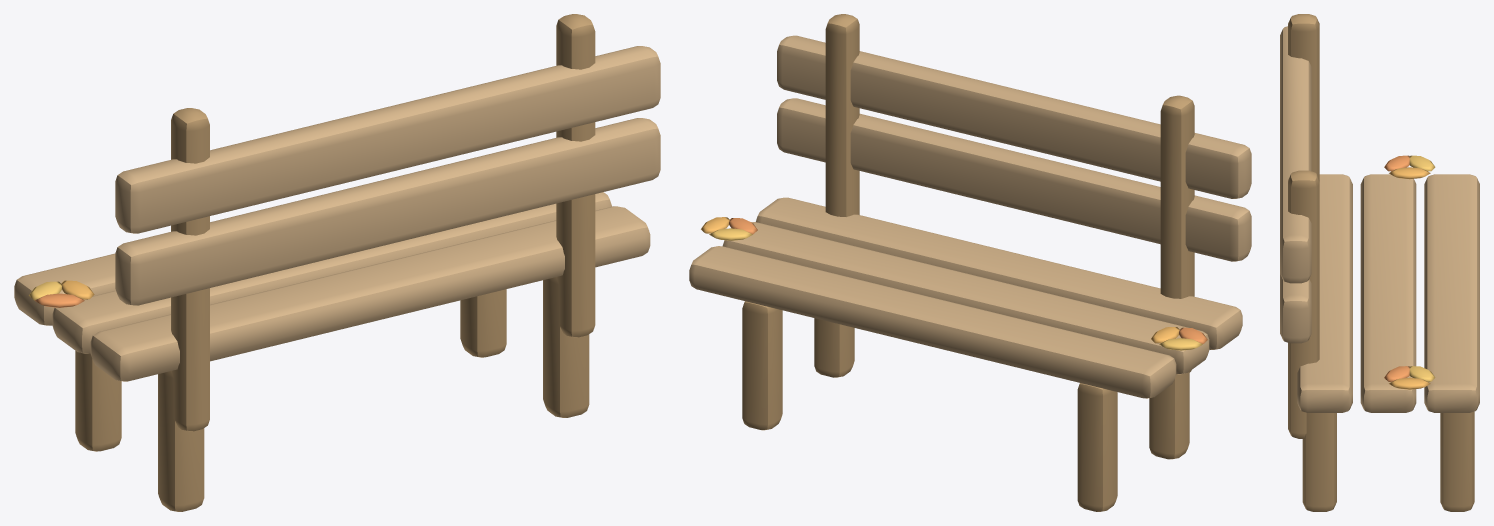
Rendered from bench_autumn_v1.glb.
3 renders of one model, left to right at view 1: azimuth 30°, elevation 25°; view 2: azimuth 150°, elevation 25°; view 3: azimuth 270°, elevation 25°, orthographic. The views are drawn at different scales.
Visible parts, largest first — view 1: Base_BackSlat (×2), Base_SeatSlat (×3), Base_Leg (×4), Base_BackSupport (×2); view 2: Base_SeatSlat (×3), Base_BackSlat (×2), Base_Leg (×4), Base_BackSupport (×2), Season_LeafSprig (×2); view 3: Base_SeatSlat (×3), Base_BackSlat (×2), Base_Leg (×2), Base_BackSupport (×2), Season_LeafSprig (×3).
Part boxes in pixels (x1,y1,x2,y2): Base_BackSlat (×2): (115, 46, 660, 305); Base_SeatSlat (×3): (14, 192, 650, 381); Base_Leg (×4): (75, 277, 589, 511); Base_BackSupport (×2): (171, 14, 595, 431); Base_SeatSlat (×3): (689, 197, 1242, 398); Base_BackSlat (×2): (777, 35, 1251, 261); Base_Leg (×4): (742, 301, 1189, 511); Base_BackSupport (×2): (825, 14, 1194, 372); Season_LeafSprig (×2): (701, 217, 1202, 350); Base_SeatSlat (×3): (1297, 174, 1479, 412); Base_BackSlat (×2): (1280, 26, 1311, 343); Base_Leg (×2): (1302, 411, 1474, 511); Base_BackSupport (×2): (1288, 14, 1319, 438); Season_LeafSprig (×3): (1384, 155, 1435, 389).
Size of the model in its own units: 2.08 by 1.4 by 0.755.
